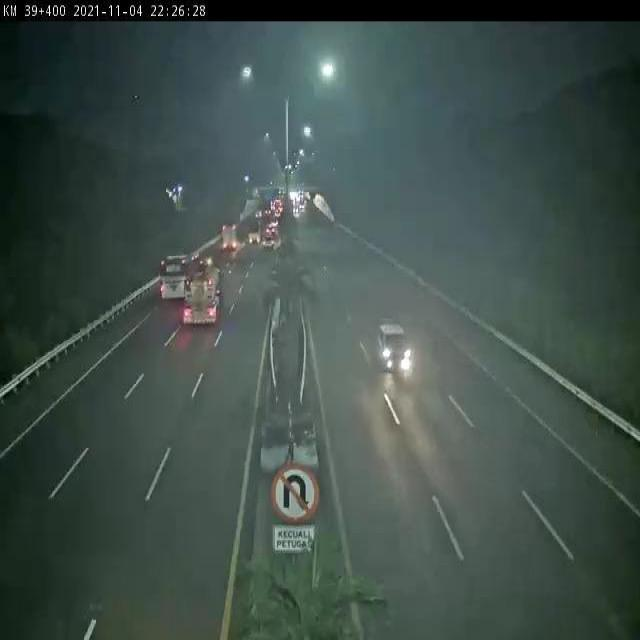bus-l-: (160, 252, 193, 301)
car: (376, 321, 417, 380), (260, 233, 277, 251)
truck-l-: (220, 226, 241, 250)
truck-m-: (247, 220, 265, 247)
truck-xl-: (183, 261, 226, 323)
